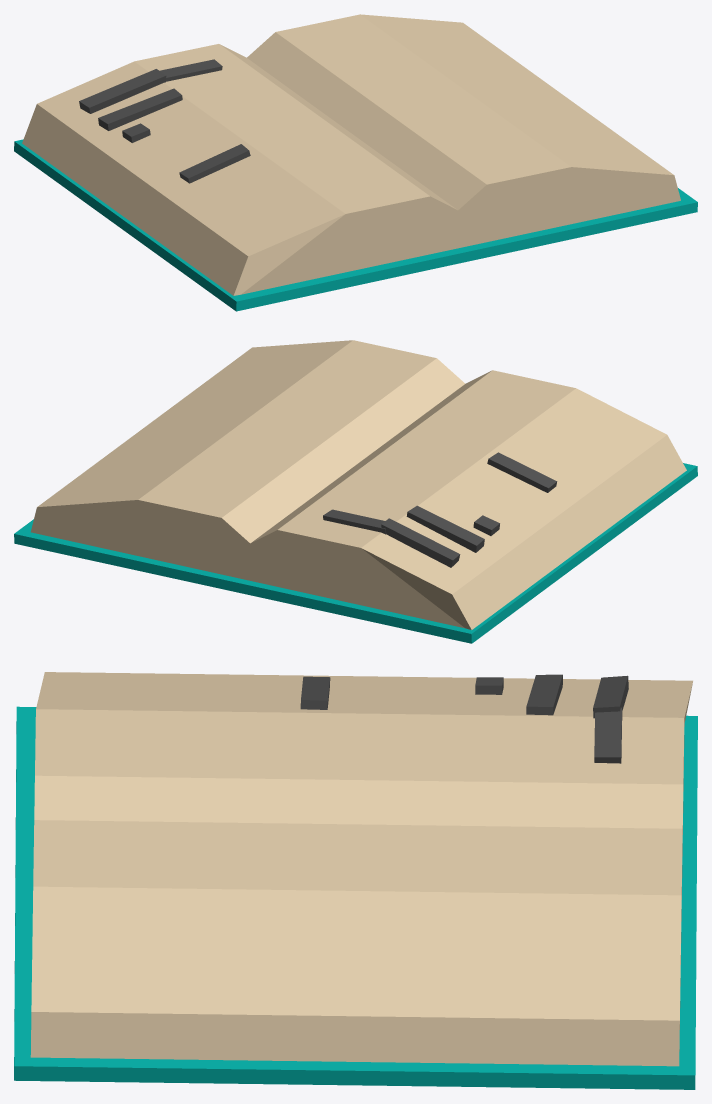
The model's file is Book.fbx.
3 renders of one model, top to bottom at view 1: azimuth 30°, elevation 25°; view 2: azimuth 150°, elevation 25°; view 3: azimuth 270°, elevation 25°, orthographic. The views are drawn at different scales.
Parts seen in each view (by area): view 1: polySurface683; view 2: polySurface683; view 3: polySurface683.
Part boxes in pixels (x1,y1,x2,y2): polySurface683: (14,14,697,311); polySurface683: (14,340,697,643); polySurface683: (14,672,697,1089).
Size of the model in its own units: 0.3309 by 0.0581 by 0.279.
